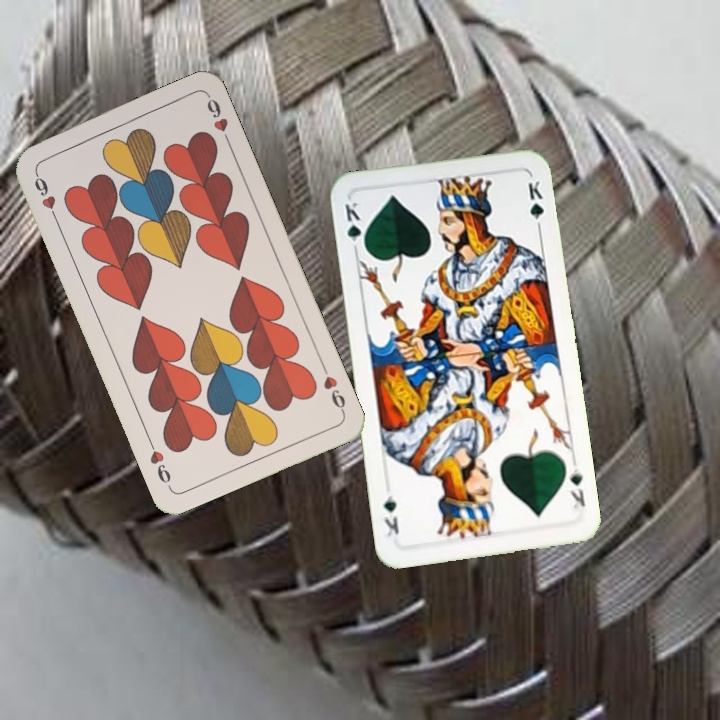GK: (341, 197, 368, 255), (566, 464, 588, 512)
H9: (317, 360, 348, 416), (30, 167, 60, 223)
